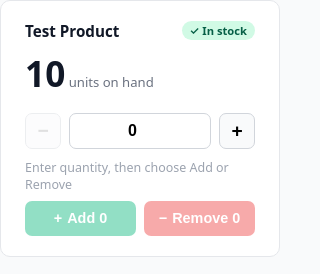
Test: Part 2 — negative-stock guard › Remove button is enabled when amount is within stock
This screenshot has width=320, height=274.
Type "5" into the number field with class "sw__input" at (140, 131), box [69,113,211,149]
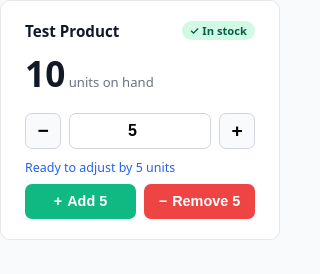
Result: the button with class "sw__btn--remove" is enabled at [144,184,255,219]
